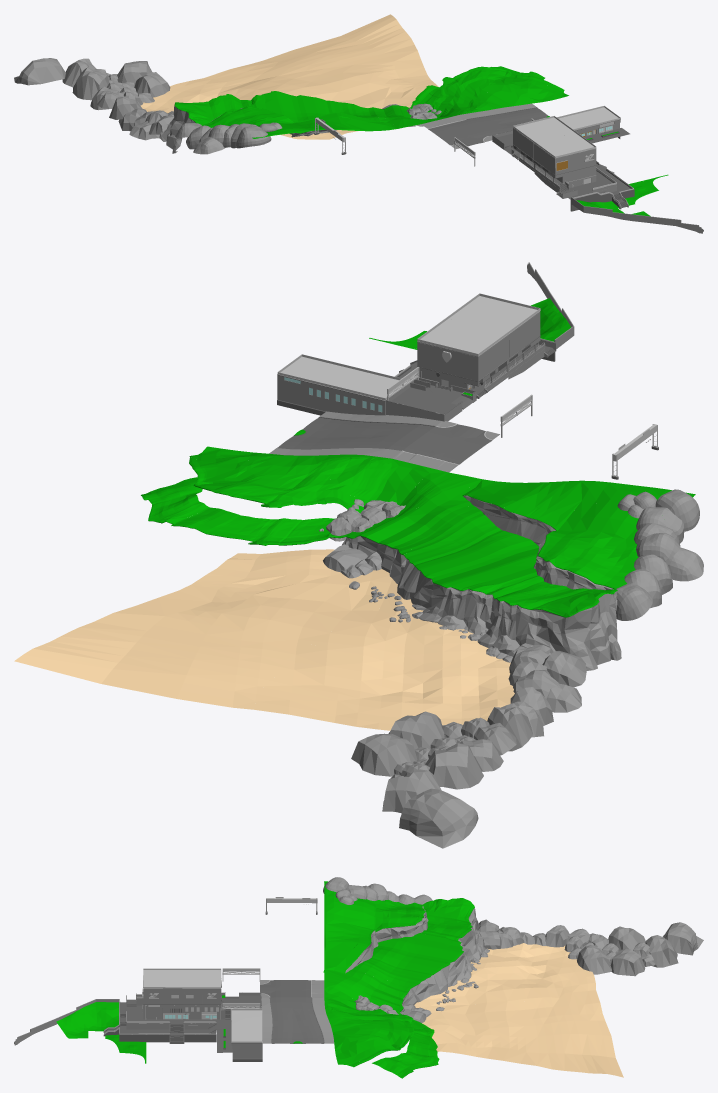
Rendered from bronx_e2_11.FBX.
The picture shows the model from 3 angles, top to bottom: view 1: azimuth 30°, elevation 25°; view 2: azimuth 150°, elevation 25°; view 3: azimuth 270°, elevation 25°; orthographic projection. The views are drawn at different scales.
Parts seen in each view (by area): view 1: unnamed, null; view 2: unnamed, null; view 3: unnamed, null.
Boxes of the visible parts, bbox=[...] form: unnamed: bbox=[226, 14, 703, 233]; null: bbox=[14, 58, 379, 154]; unnamed: bbox=[14, 262, 699, 709]; null: bbox=[254, 498, 703, 848]; unnamed: bbox=[14, 877, 623, 1078]; null: bbox=[344, 883, 703, 1014].
Bounding box in the file's own units: 234 × 54.71 × 403.
